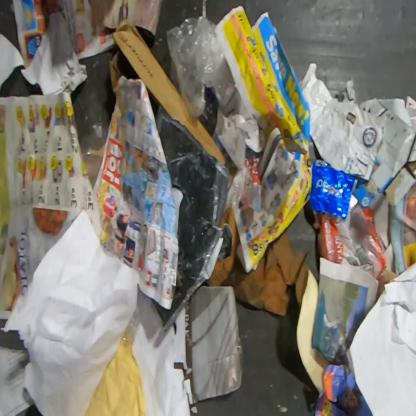cardboard: (108, 19, 228, 166), (205, 206, 310, 316)
metal: (308, 159, 357, 220)
rigid_plastic: (120, 303, 142, 346)
soft_plastic: (165, 15, 228, 119), (321, 206, 387, 281), (80, 122, 108, 190)
